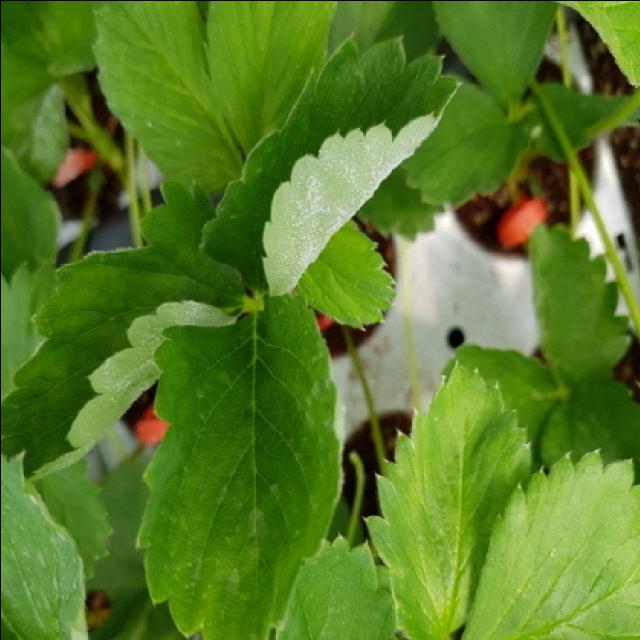Powdery Mildew Leaf: (195, 30, 459, 296), (2, 242, 243, 483)
